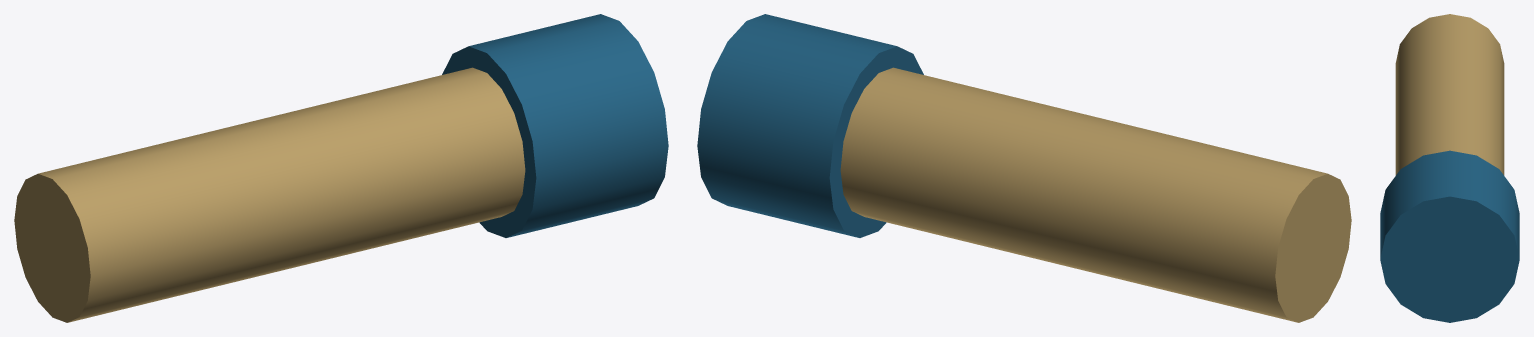
3 renders of one model, left to right at view 1: azimuth 30°, elevation 25°; view 2: azimuth 150°, elevation 25°; view 3: azimuth 270°, elevation 25°, orthographic. The views are drawn at different scales.
Parts seen in each view (by area): view 1: 消声器; view 2: 消声器; view 3: 消声器.
Part boxes in pixels (x1,y1,x2,y2): 消声器: [14, 14, 668, 322]; 消声器: [697, 14, 1351, 322]; 消声器: [1380, 14, 1519, 322].
Size of the model in its own units: 0.6 by 0.18 by 0.18.
